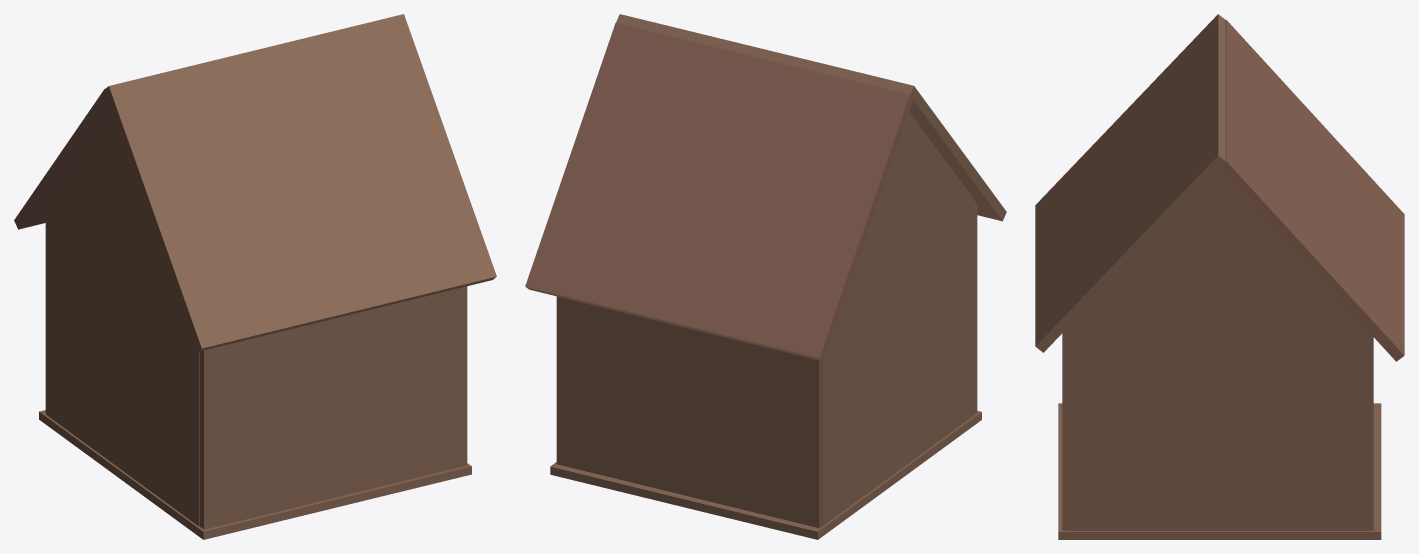
The model's file is HuisjeGingerbread.fbx.
3 renders of one model, left to right at view 1: azimuth 30°, elevation 25°; view 2: azimuth 150°, elevation 25°; view 3: azimuth 270°, elevation 25°, orthographic.
Visible parts, largest first — view 1: Cube.004, Cube.007, Cube.002, Cube.001, Cube.006, Cube.005; view 2: Cube.006, Cube.005, Cube.002, Cube.004, Cube.001, Cube.007; view 3: Cube.003, Cube.004, Cube.006, Cube.001, Cube.007, Cube.005.
Part boxes in pixels (left/top/right/bottom): Cube.004: left=105, top=14, right=496, bottom=351; Cube.007: left=200, top=286, right=467, bottom=529; Cube.002: left=47, top=111, right=199, bottom=526; Cube.001: left=39, top=410, right=471, bottom=539; Cube.006: left=14, top=88, right=112, bottom=229; Cube.005: left=45, top=207, right=47, bottom=414; Cube.006: left=525, top=23, right=913, bottom=361; Cube.005: left=556, top=296, right=821, bottom=528; Cube.002: left=821, top=112, right=973, bottom=526; Cube.004: left=616, top=14, right=1006, bottom=221; Cube.001: left=550, top=411, right=981, bottom=539; Cube.007: left=973, top=200, right=977, bottom=414; Cube.003: left=1070, top=169, right=1368, bottom=530; Cube.004: left=1035, top=14, right=1225, bottom=352; Cube.006: left=1218, top=19, right=1404, bottom=361; Cube.001: left=1058, top=403, right=1381, bottom=539; Cube.007: left=1062, top=325, right=1070, bottom=530; Cube.005: left=1369, top=332, right=1373, bottom=530.
Size of the model in its own units: 366 by 471 by 403.
